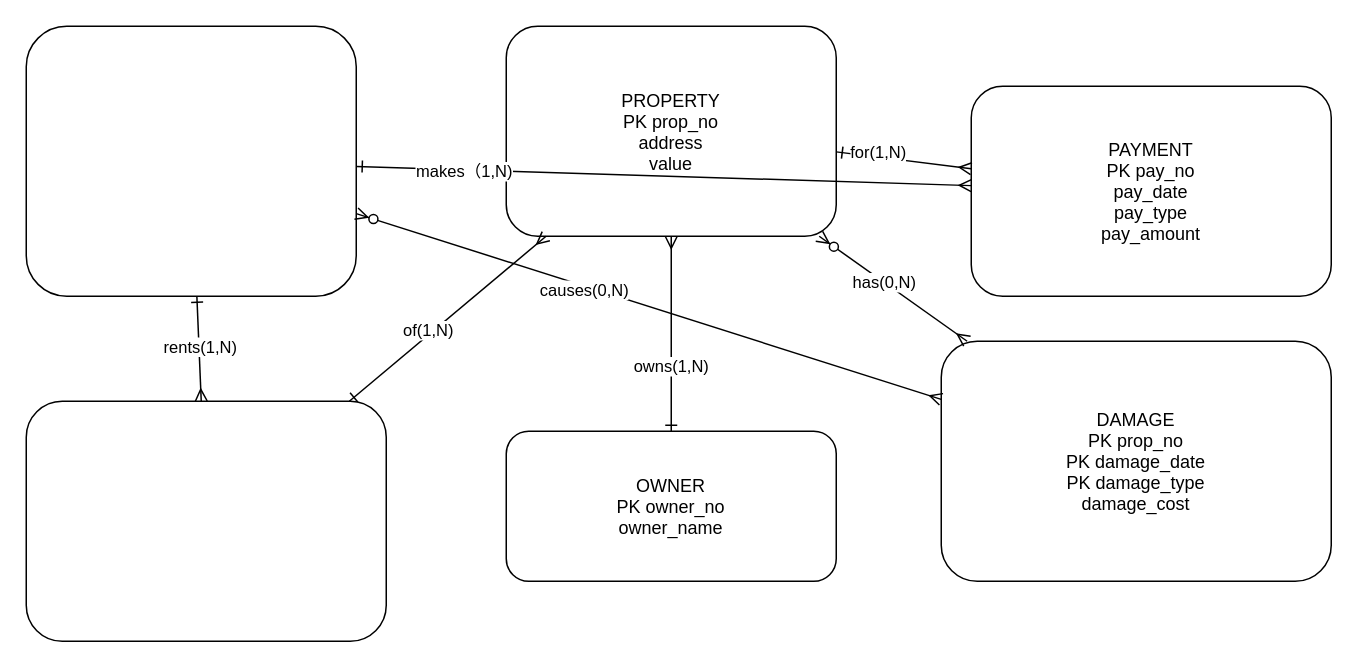
Image size: 1358x668. Some labels were removed from this diagram. The box of each missing label's shape, as (x1, y1, x2, y2) in pixels:
RENT PK tenant_no PK prop_no PK start_date lease_period bond: (25, 400, 386, 641)
TENANT PK tenant_no givname famname street city state postcode phone: (25, 25, 356, 296)
